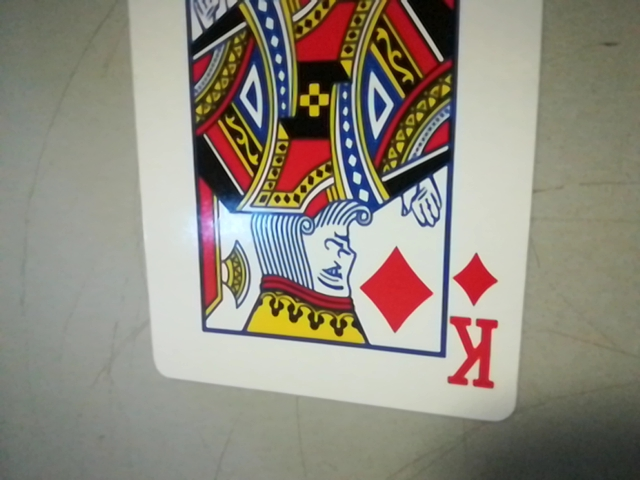fk k: (438, 249, 509, 399)
